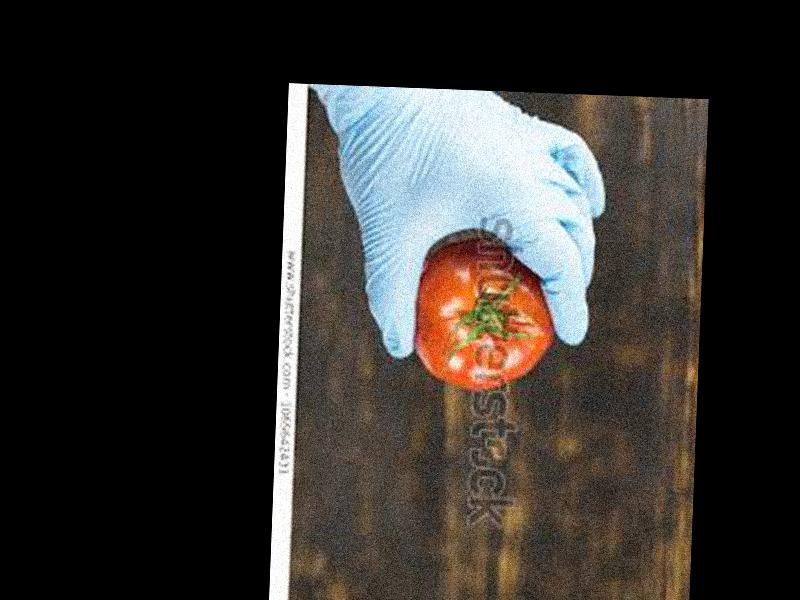Tomato: (411, 234, 557, 395)
